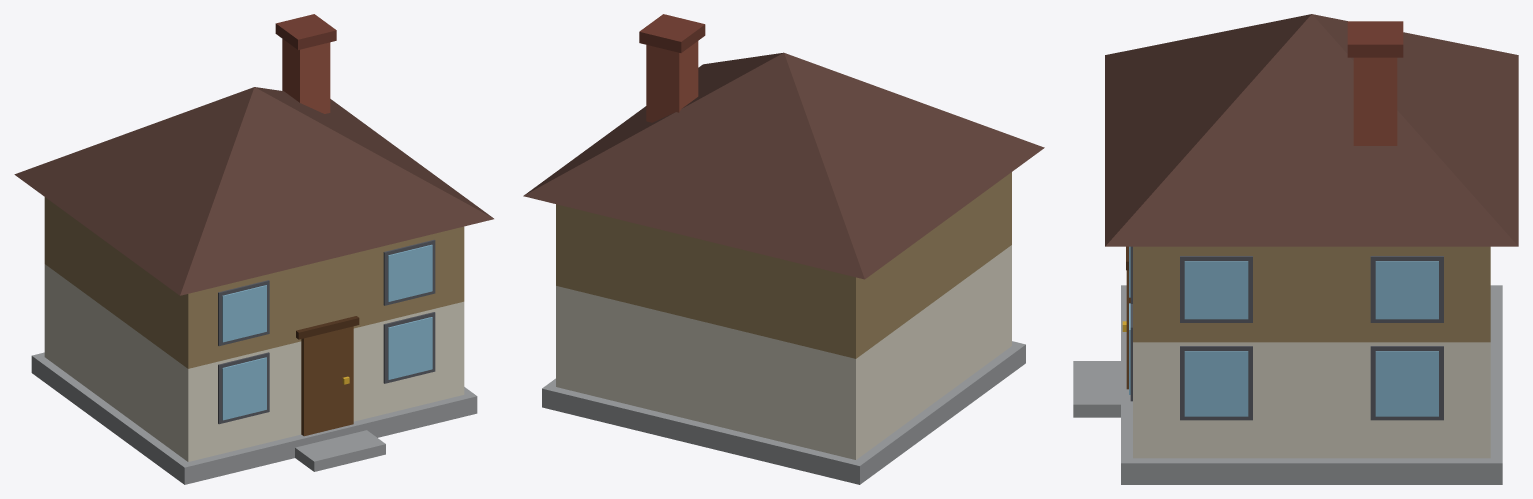
Rendered from bld_house.glb.
The picture shows the model from 3 angles, left to right: view 1: azimuth 30°, elevation 25°; view 2: azimuth 150°, elevation 25°; view 3: azimuth 270°, elevation 25°; orthographic projection. The views are drawn at different scales.
Visible parts, largest first — view 1: bld_house; view 2: bld_house; view 3: bld_house.
Part boxes in pixels (box(x1,y1,x2,y2)): bld_house: box(14, 14, 493, 484); bld_house: box(523, 14, 1044, 484); bld_house: box(1073, 14, 1518, 484).
Bounding box in the file's own units: 5.7 × 5.69 × 5.6.
